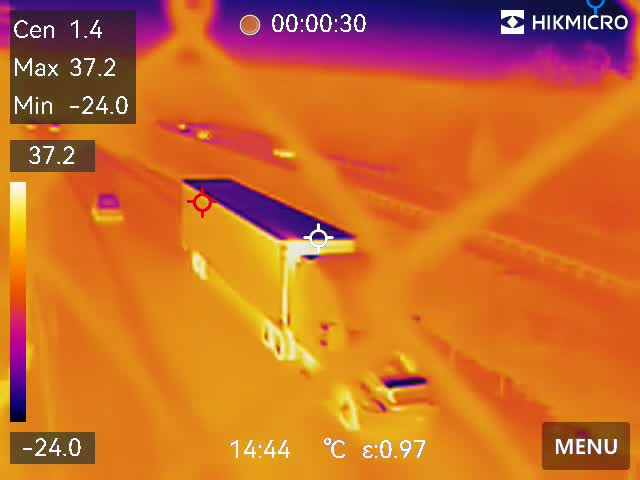heavyTruck: (178, 174, 439, 437)
vehicle: (91, 187, 125, 226), (270, 142, 300, 161), (192, 127, 211, 142)
